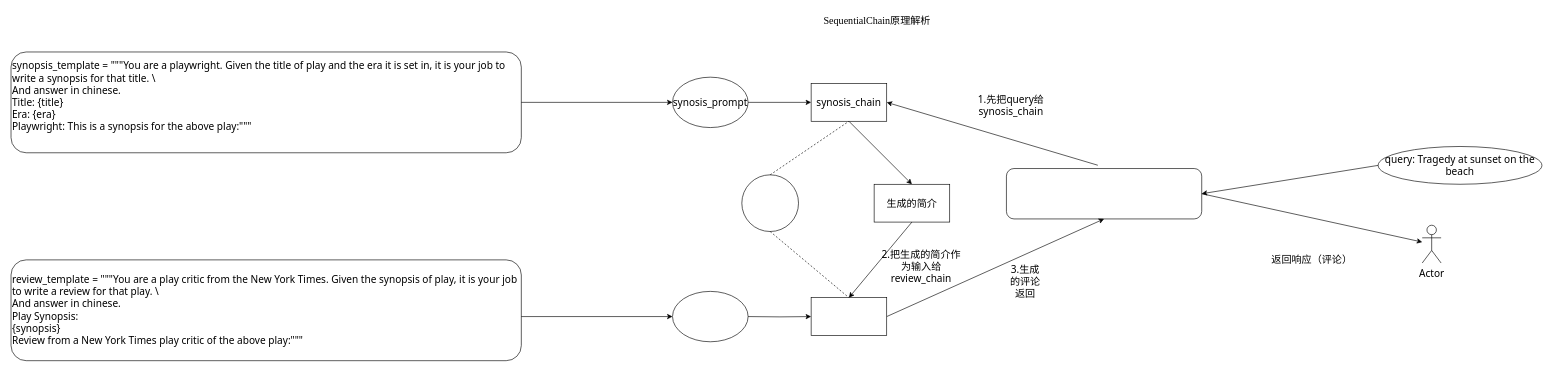
The diagram is 1553 pixels wide and 372 high, and some of its shapes have lost their labels. The box of each missing label's shape, as (x1, y1, x2, y2) in pixels:
llm = ChatOpenAI(): (741, 174, 799, 232)
review_chain: (810, 297, 887, 335)
review_prompt: (672, 291, 748, 342)
sequential_chain(chains = [synosis_chain,review_chain], ...): (1006, 168, 1202, 219)
